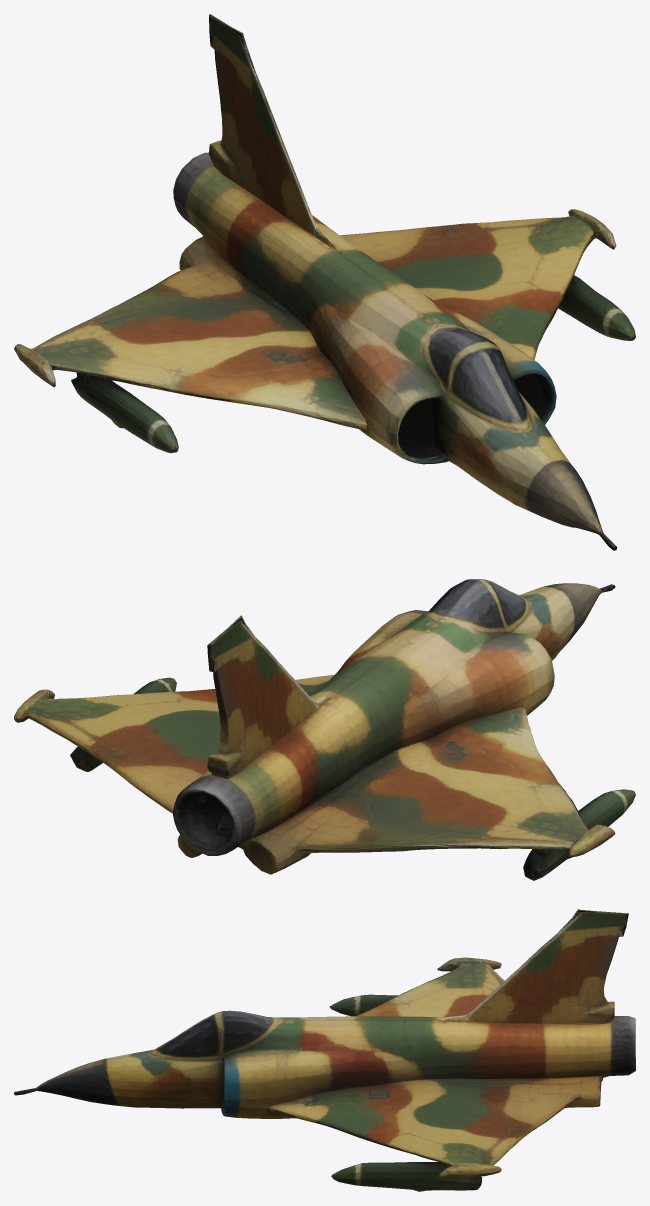
Rendered from unit_jet_mirage.glb.
3 renders of one model, top to bottom at view 1: azimuth 30°, elevation 25°; view 2: azimuth 150°, elevation 25°; view 3: azimuth 270°, elevation 25°, orthographic. The views are drawn at different scales.
Parts seen in each view (by area): view 1: world; view 2: world; view 3: world.
Part boxes in pixels (x1,y1,x2,y2): world: (14, 14, 635, 550); world: (14, 579, 635, 880); world: (14, 909, 635, 1191).
Size of the model in its own units: 0.8044 by 0.3532 by 1.
1 material, 1 textured.
